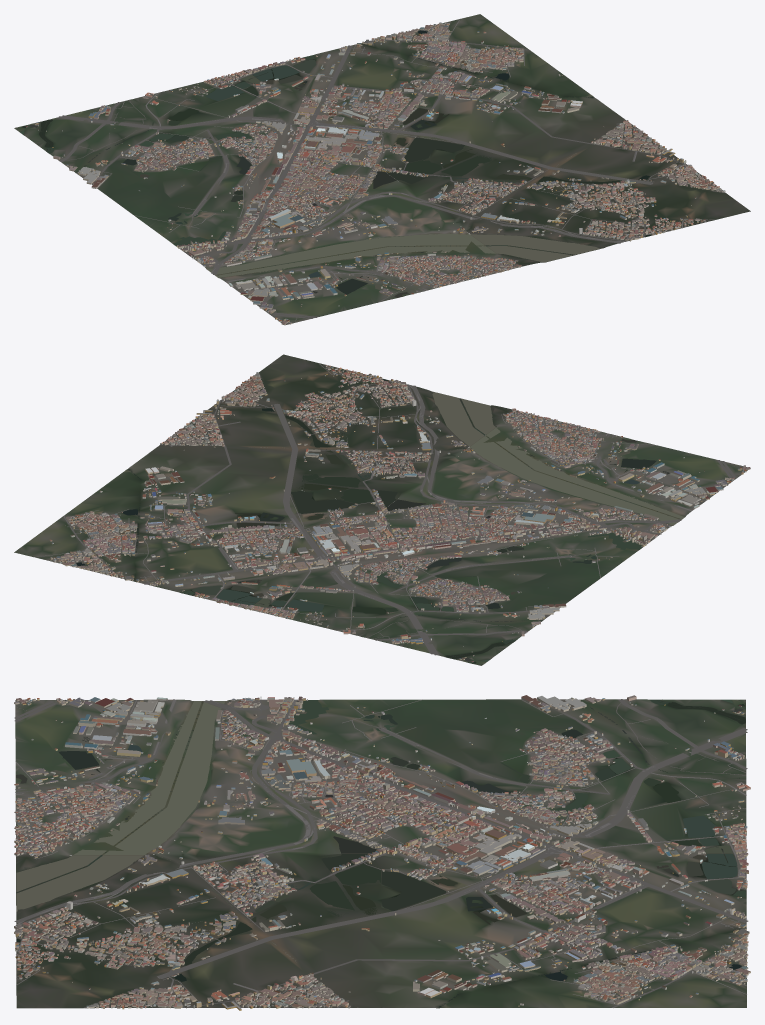
3 views of the same model, one above another, from view 1: azimuth 30°, elevation 25°; view 2: azimuth 150°, elevation 25°; view 3: azimuth 270°, elevation 25° (orthographic). The views are drawn at different scales.
Visible parts, largest first — view 1: ground, buildings, water, roads; view 2: ground, buildings, water, roads; view 3: ground, buildings, water, roads.
Part boxes in pixels (x1,y1,x2,y2): ground: (14, 14, 750, 325); buildings: (26, 22, 725, 324); water: (16, 30, 650, 297); roads: (58, 19, 724, 322); ground: (14, 354, 750, 665); buildings: (49, 365, 750, 662); water: (76, 379, 684, 664); roads: (34, 363, 740, 655); ground: (15, 699, 746, 1008); buildings: (14, 695, 750, 1010); water: (16, 699, 746, 1007); roads: (14, 699, 748, 1008).
Size of the model in its own units: 2850 by 36 by 2828.
